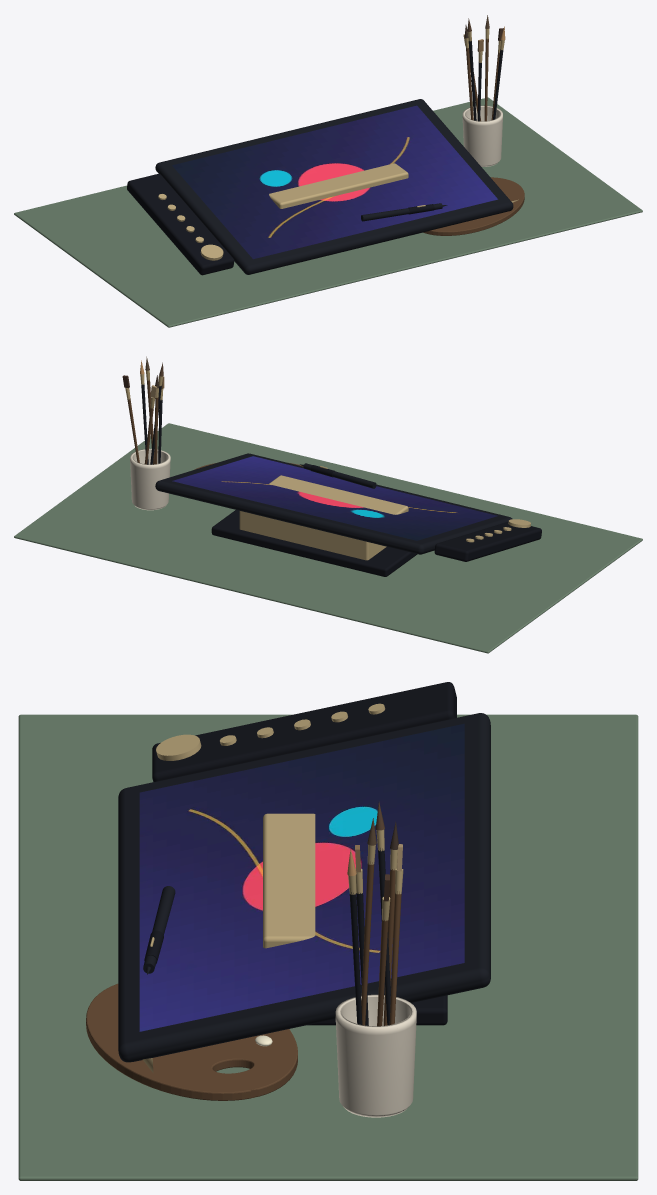
Rendered from atelier-artist-set-tablet-sage.glb.
3 renders of one model, top to bottom at view 1: azimuth 30°, elevation 25°; view 2: azimuth 150°, elevation 25°; view 3: azimuth 270°, elevation 25°, orthographic. The views are drawn at different scales.
Bounding box in the file's own units: 0.92 × 0.277 × 0.52.
20 materials, 1 textured.
